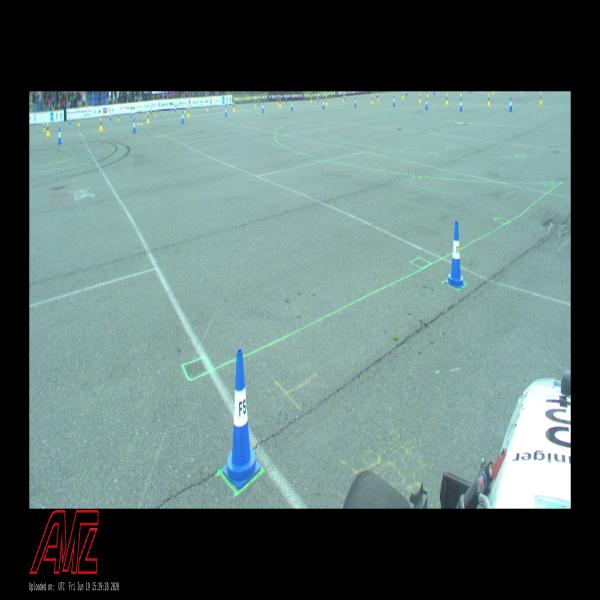blue_cone: (223, 348, 261, 488), (446, 221, 464, 290), (509, 96, 513, 112), (132, 119, 136, 133), (459, 98, 463, 111), (58, 127, 61, 144), (181, 111, 184, 123), (425, 97, 428, 109), (354, 97, 357, 107), (322, 99, 325, 109), (262, 102, 264, 113), (291, 100, 293, 110), (393, 96, 395, 106), (225, 106, 227, 116), (130, 110, 132, 118), (69, 117, 71, 124), (257, 99, 259, 105), (317, 96, 319, 102), (344, 94, 346, 100), (406, 92, 408, 97), (285, 97, 287, 102), (210, 101, 211, 109), (377, 91, 378, 98), (151, 108, 152, 115), (110, 113, 111, 119), (175, 106, 176, 112)
yellow_cone: (99, 118, 103, 130), (539, 92, 543, 104), (487, 93, 490, 105), (187, 108, 190, 117), (47, 122, 49, 135), (154, 108, 157, 116), (147, 112, 149, 123), (77, 119, 80, 126), (419, 92, 421, 102), (446, 94, 448, 104), (43, 123, 45, 131), (279, 99, 281, 107), (372, 95, 374, 103), (326, 97, 328, 105), (206, 104, 208, 111), (402, 92, 404, 98), (377, 94, 379, 100), (310, 96, 312, 102), (184, 107, 186, 113), (460, 91, 462, 96), (426, 92, 428, 97), (234, 103, 235, 112), (343, 95, 344, 102), (255, 100, 256, 107), (118, 114, 119, 120), (326, 95, 327, 99), (278, 98, 278, 104)
